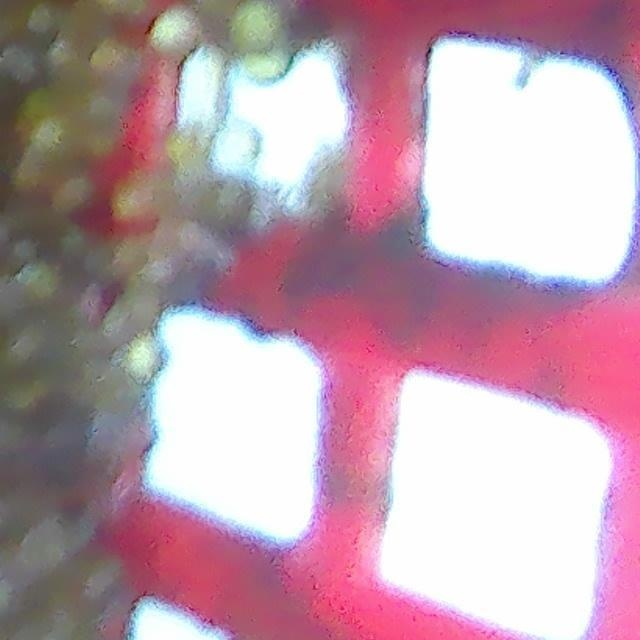SeaGrape: (230, 0, 287, 54)
